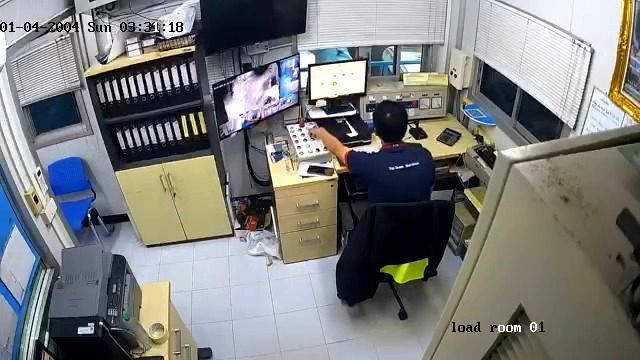Head: (373, 100, 407, 142)
People: (310, 101, 434, 203)
Phone: (307, 165, 333, 175)
